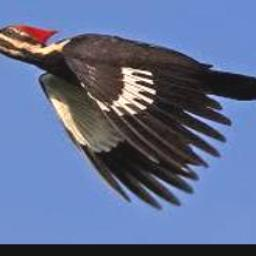Woodpecker: (0, 23, 256, 209)
